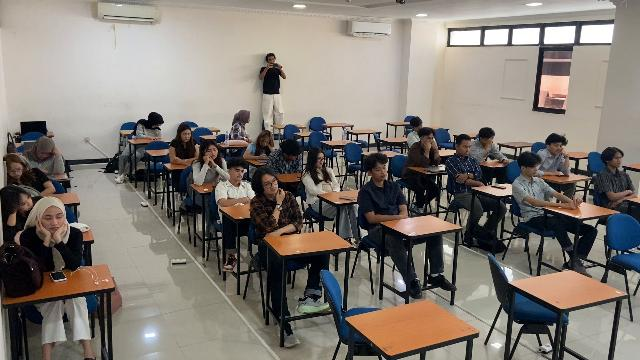bosan: (43, 209, 63, 232), (18, 193, 33, 210), (263, 177, 278, 194), (8, 163, 22, 178), (374, 165, 387, 180), (611, 153, 622, 167), (205, 147, 218, 158), (461, 142, 471, 156), (233, 168, 244, 180), (551, 142, 562, 154), (529, 161, 538, 175), (182, 131, 191, 142), (425, 134, 434, 145), (317, 153, 324, 167), (261, 138, 271, 147), (38, 152, 49, 160)
